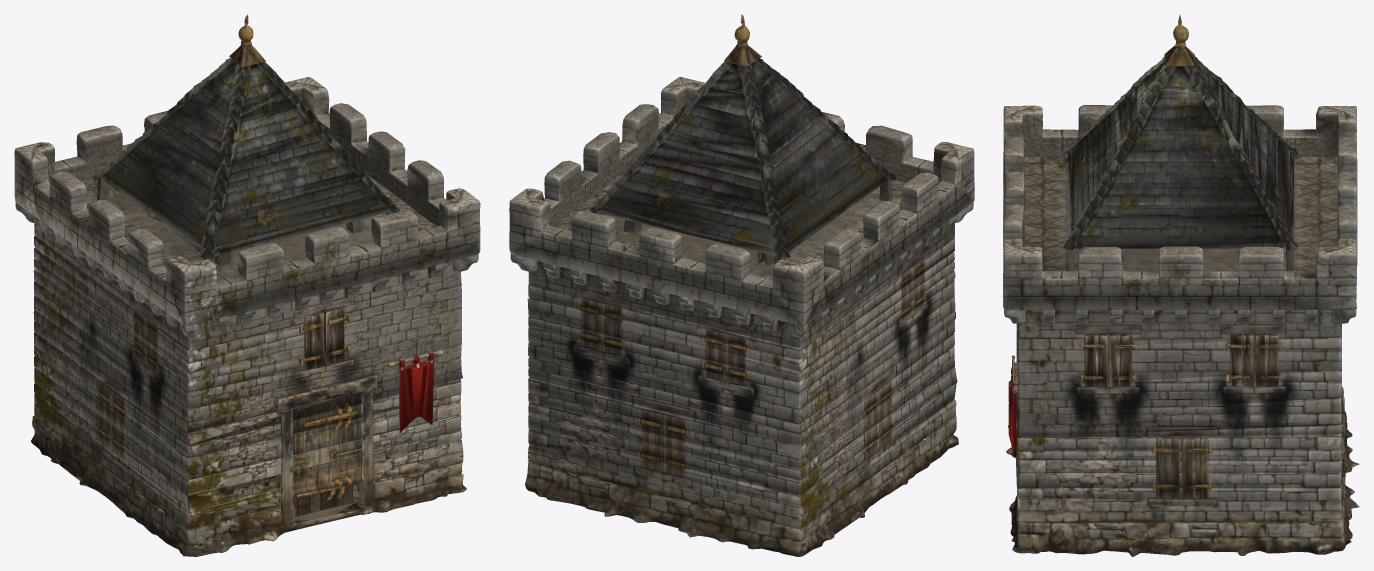
Rendered from cas-keep_optimized.glb.
The picture shows the model from 3 angles, left to right: view 1: azimuth 30°, elevation 25°; view 2: azimuth 150°, elevation 25°; view 3: azimuth 270°, elevation 25°; orthographic projection. The views are drawn at different scales.
Parts seen in each view (by area): view 1: Mesh_0; view 2: Mesh_0; view 3: Mesh_0.
Part boxes in pixels (x1,y1,x2,y2): Mesh_0: [14, 14, 480, 556]; Mesh_0: [509, 14, 974, 556]; Mesh_0: [1003, 14, 1359, 556].
Size of the model in its own units: 0.6533 by 0.9512 by 0.6567.
1 material, 1 textured.
